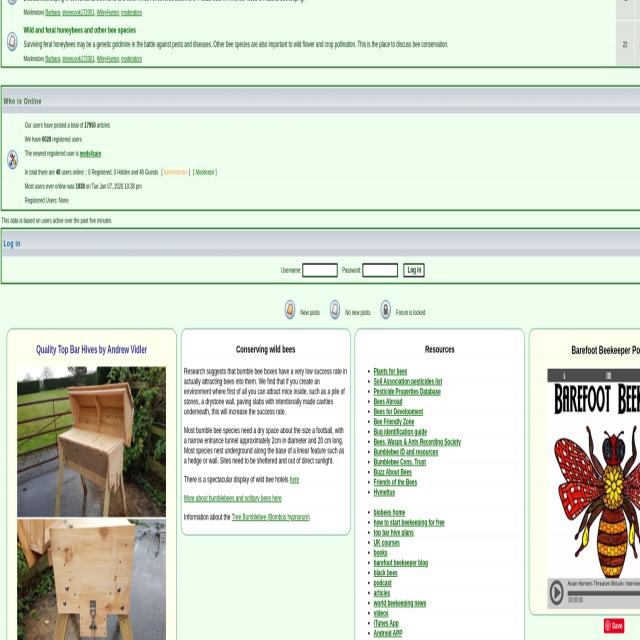button: (16, 365, 166, 516), (547, 367, 640, 608), (17, 518, 166, 640), (324, 299, 344, 318), (280, 299, 298, 318), (376, 299, 394, 318), (603, 618, 624, 633), (6, 149, 19, 173), (403, 262, 424, 276), (6, 32, 19, 52)
field: (303, 264, 337, 277), (363, 264, 397, 276)
